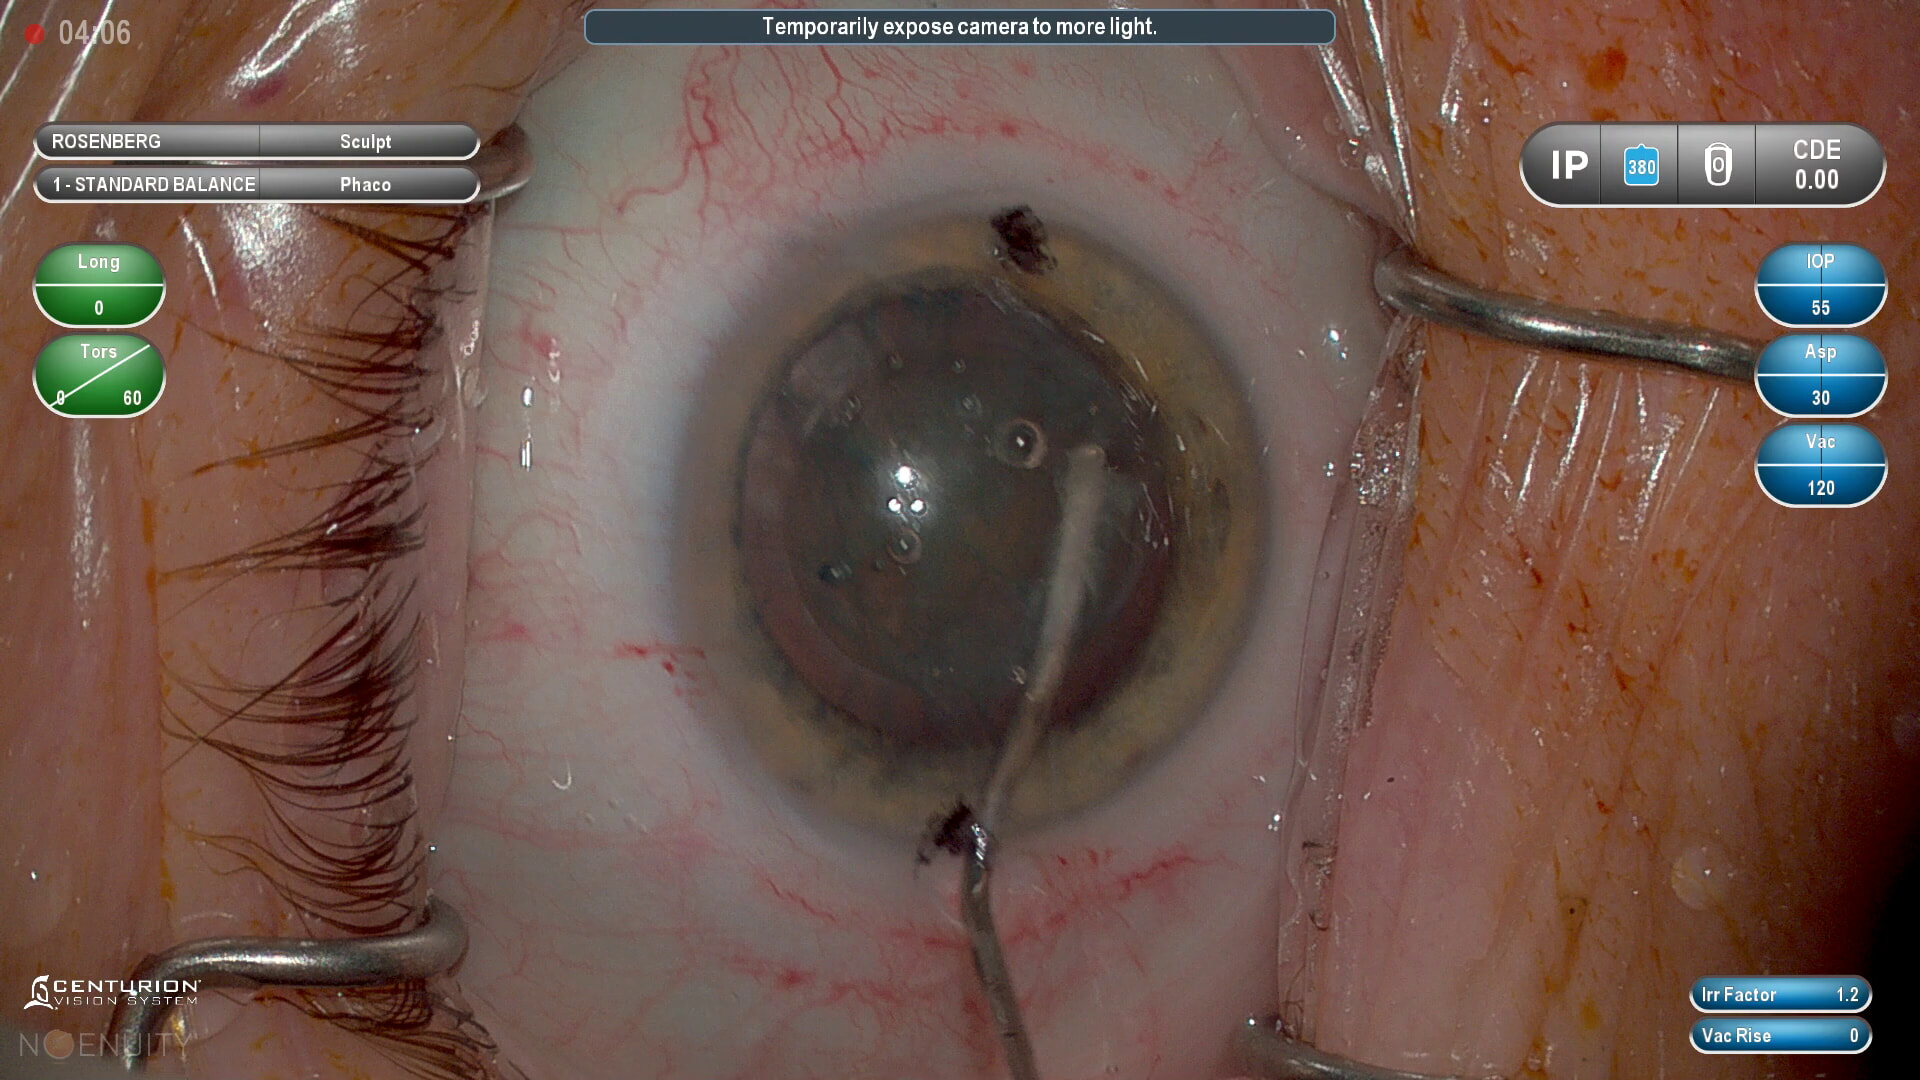iris: (683, 217, 1259, 844)
pupil: (738, 278, 1181, 770)
